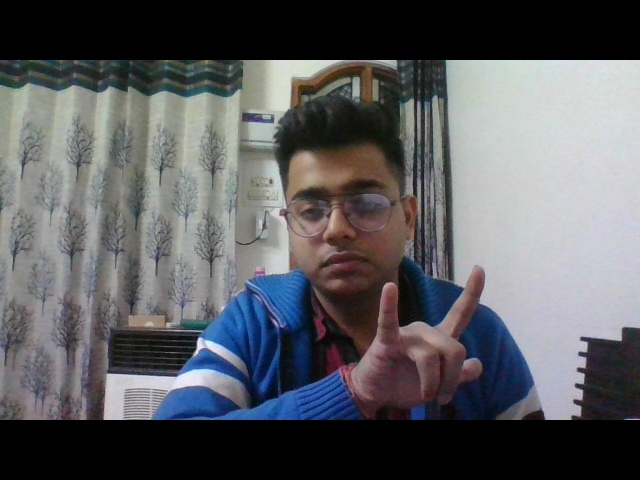ILoveYou: (349, 255, 521, 408)
